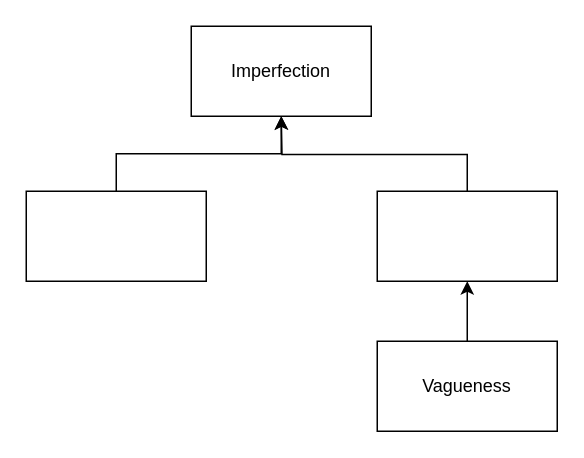
Image size: 584x458. Some labels were removed from this diagram. Here are the shapes that lost their labels. From the top down, the box of each, then its label:
(25, 190, 206, 281): Inaccuracy
(376, 190, 557, 281): Imprecision
